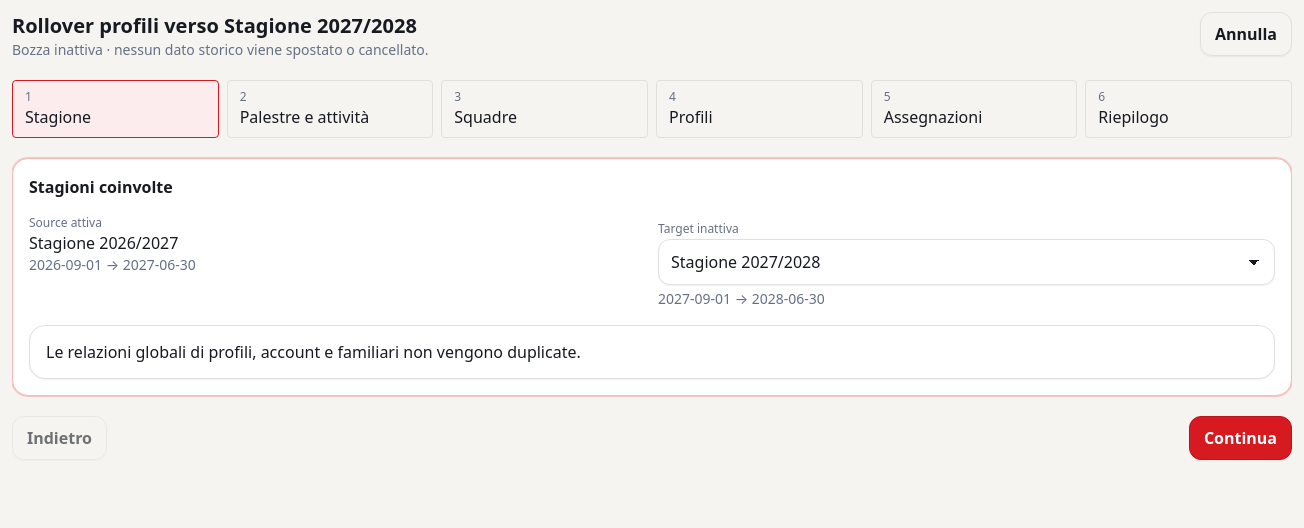
it: SeasonRolloverWizard › filters profiles and can include the filtered result explicitly
This screenshot has width=1304, height=528.
Click the button "Continua": point(1240, 438) 1189,416 -> 1292,460
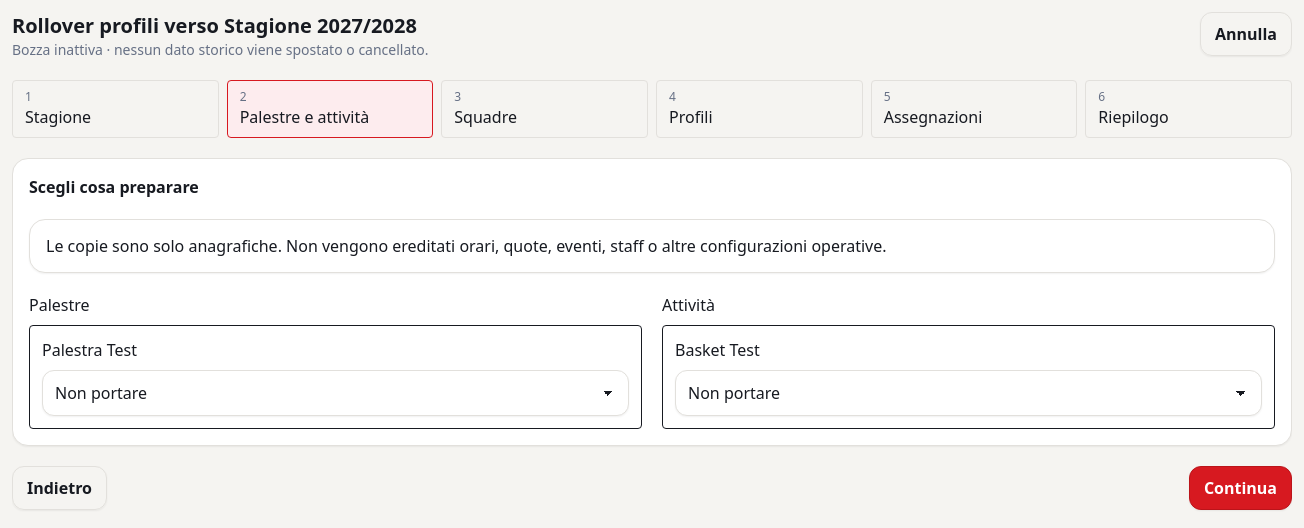
expect the text "Palestra Test" is shown: met, box 42,339 -> 137,361
Click the button "Continua": point(1240, 488) 1189,466 -> 1292,510
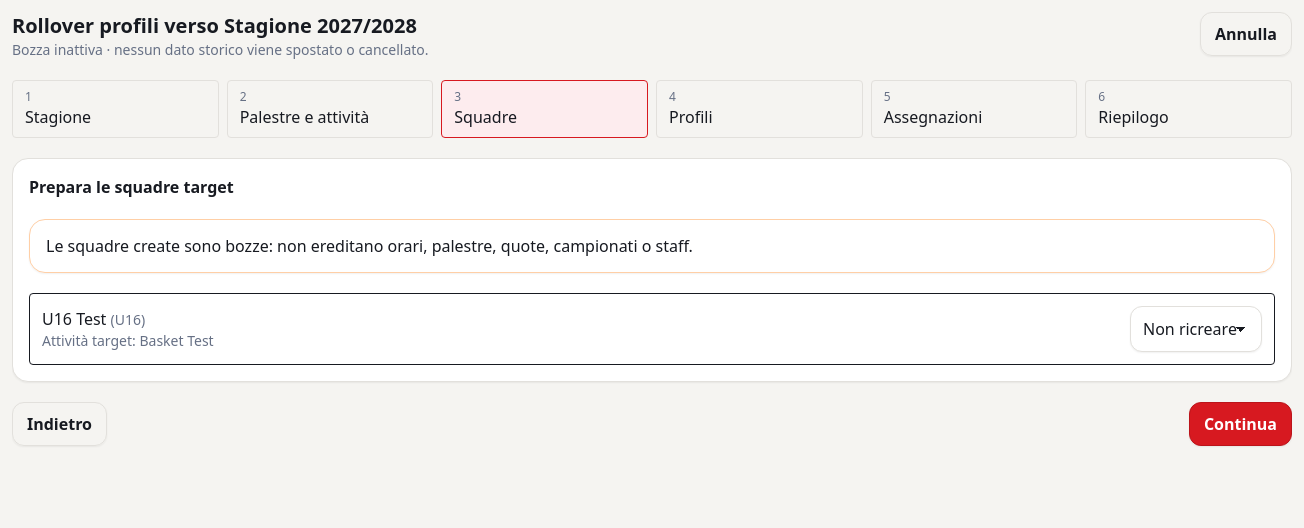
expect the text "U16 Test" is shown: met, box 42,308 -> 106,330
Click the button "Continua": point(1240, 424) 1189,402 -> 1292,446
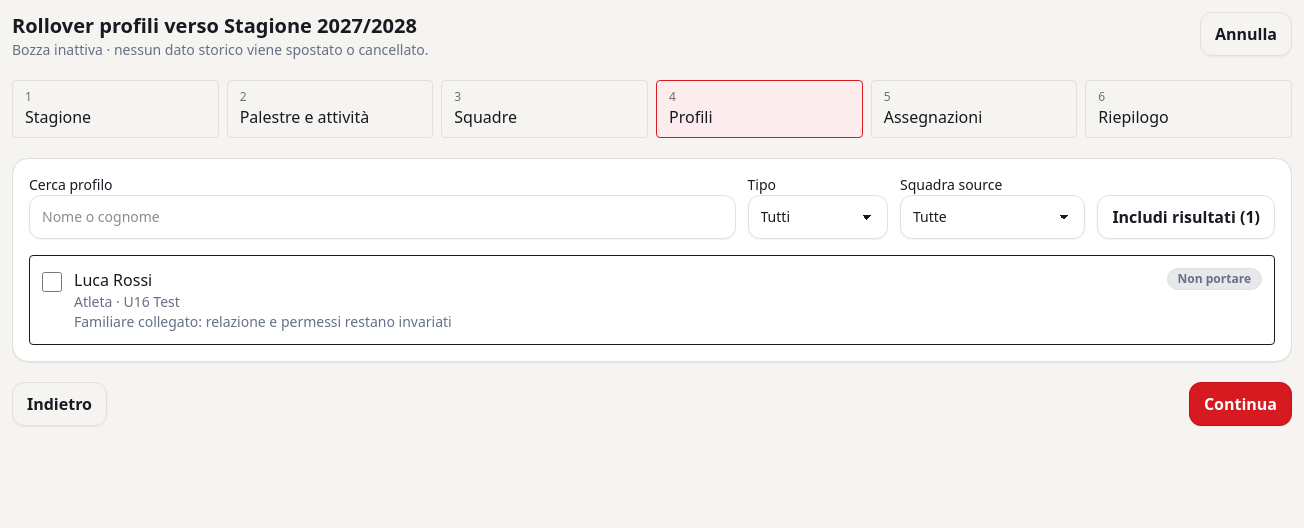
expect the text "Luca Rossi" is shown: met, box 74,269 -> 152,291
In the field labelled "Cerca profilo": point(382, 217) 29,195 -> 736,239, type "inesistente"
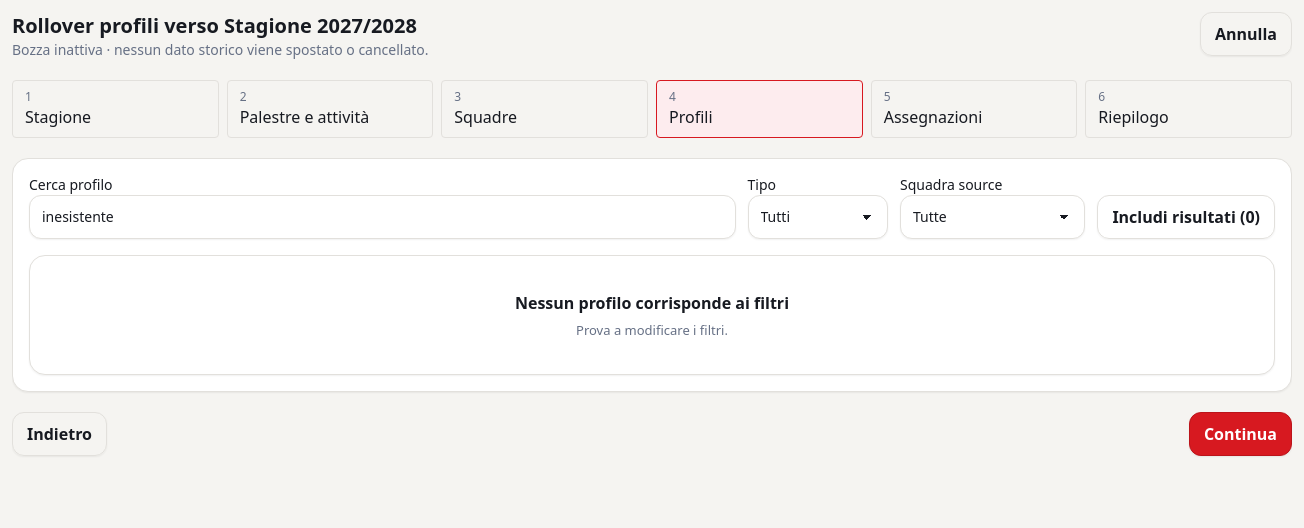
expect the text "Nessun profilo corrisponde ai filtri" is shown: met, box 515,291 -> 789,315
Replace the text in the field labelled "Cerca profilo" with "luca": point(382, 217) 29,195 -> 736,239
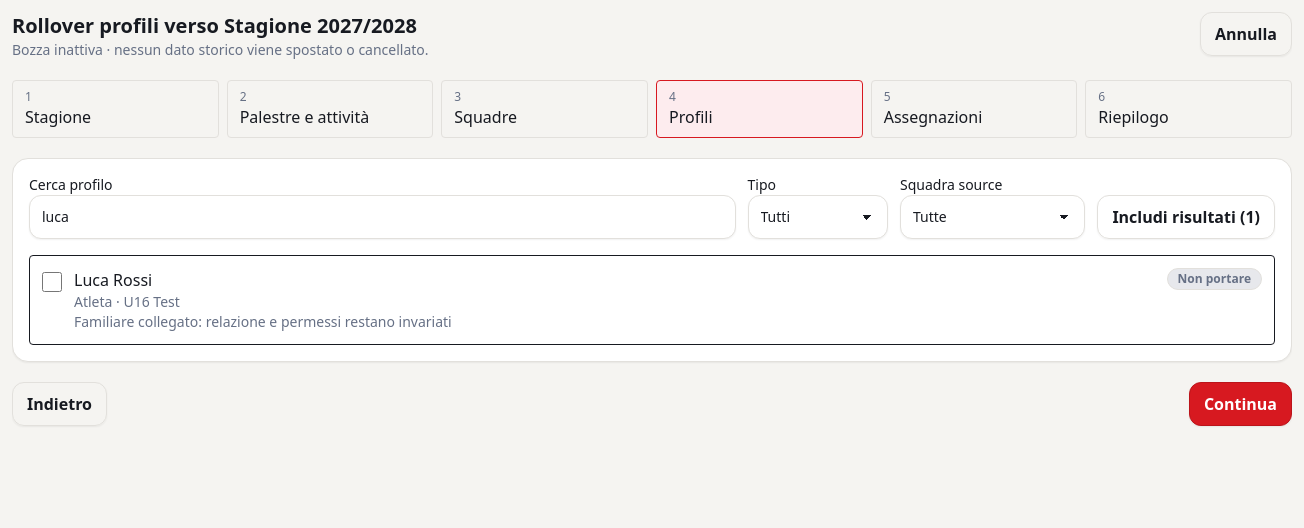
Click the button "Includi risultati (1)": point(1186, 217) 1097,195 -> 1275,239
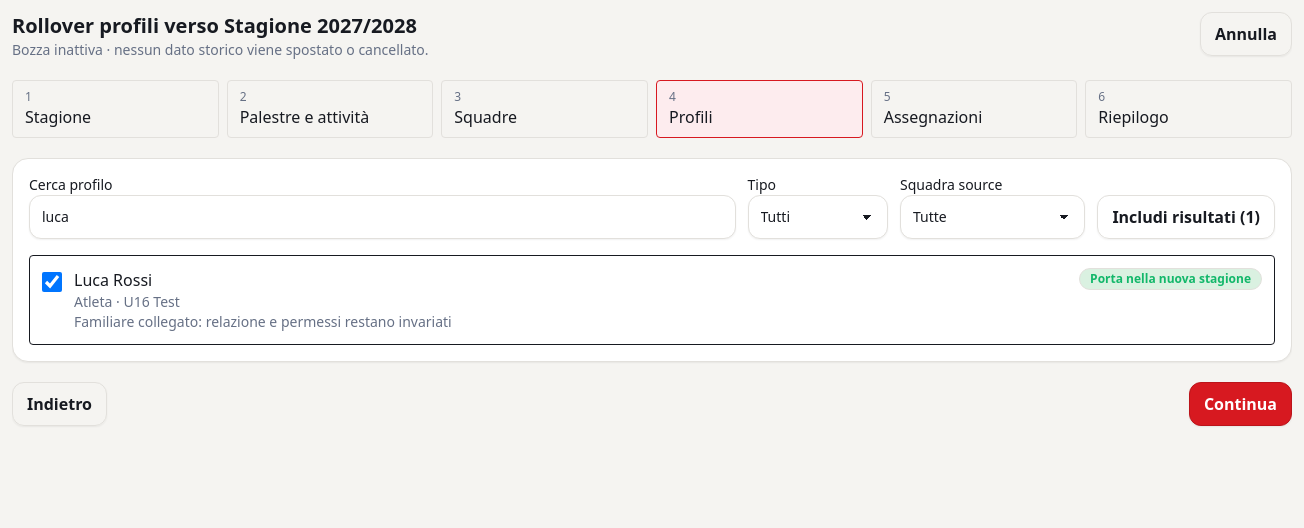
expect the text "Porta nella nuova stagione" is shown: met, box 1079,268 -> 1262,290
